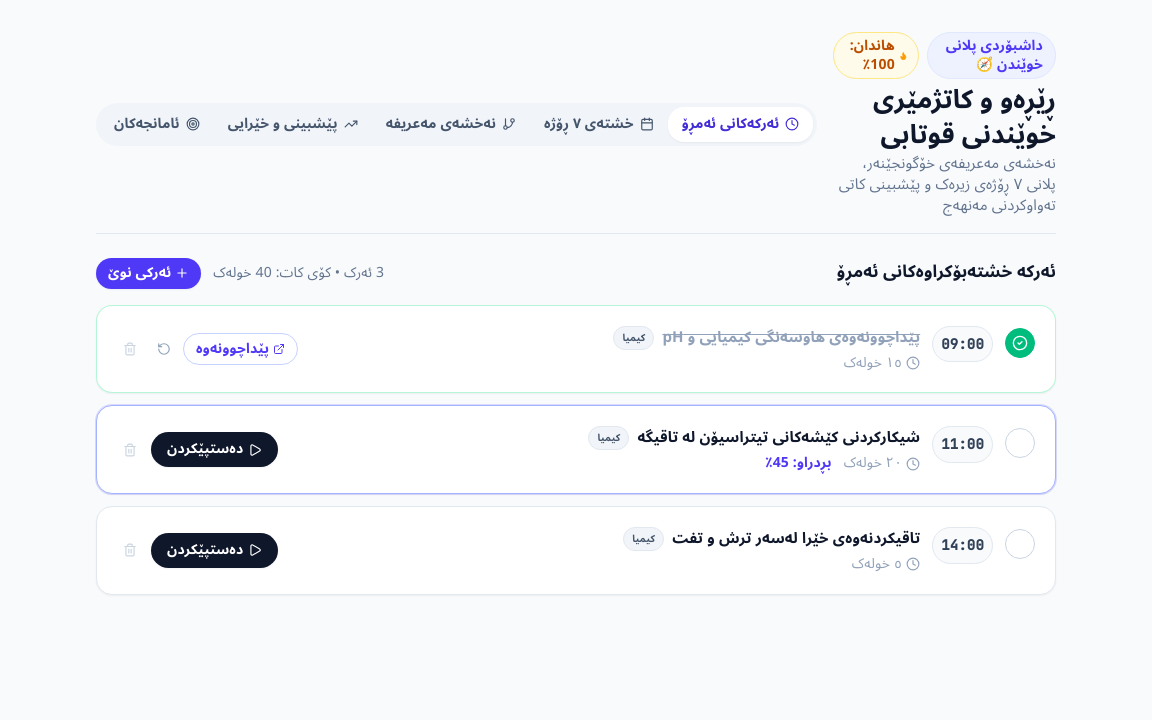
Test: StudyPathManager Component Tests › 2. Switches to Knowledge Graph tab and displays concept dependency tree
Click the button "نەخشەی مەعریفە" at (451, 124), box top-left (372, 107), bottom-right (530, 142)
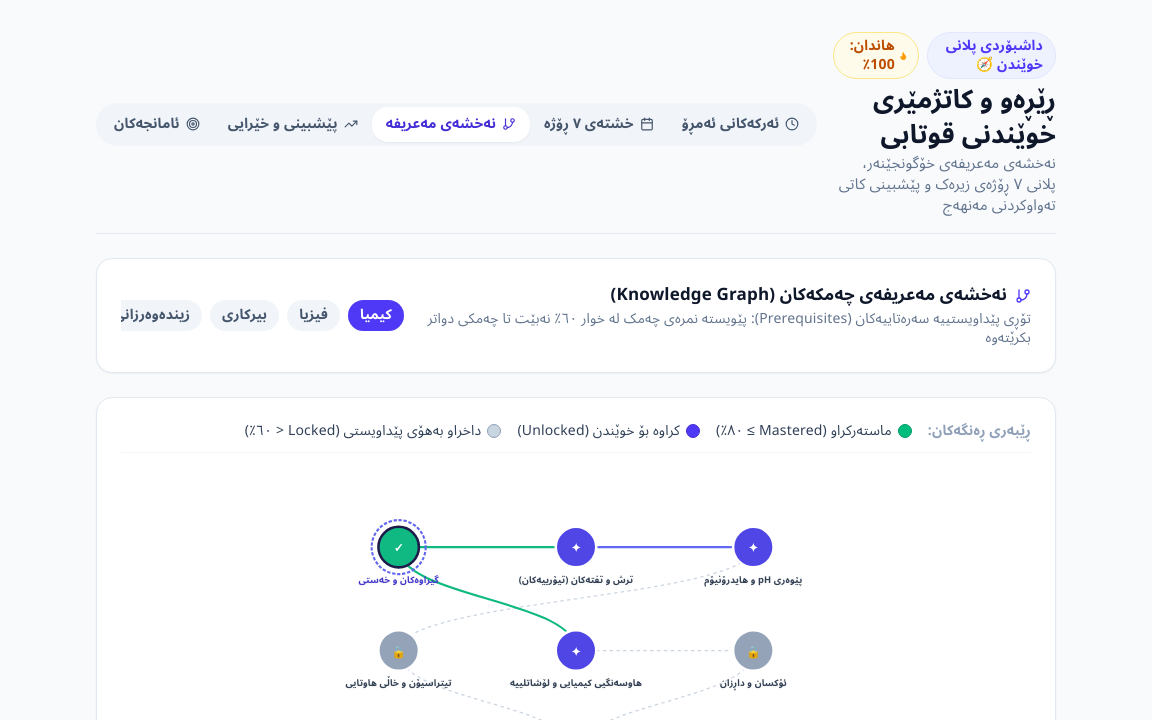
expect the text "نەخشەی مەعریفەی چەمکەکان (Knowledge Graph)" is shown: met, box top-left (611, 283), bottom-right (1007, 308)
expect the text "تۆڕی پێداویستییە سەرەتاییەکان" is shown: met, box top-left (428, 304), bottom-right (1031, 352)
